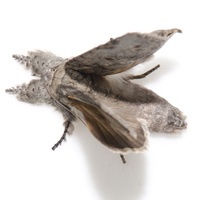insect: (10, 28, 186, 151)
